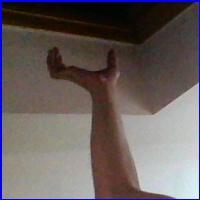space: (42, 42, 128, 92)
